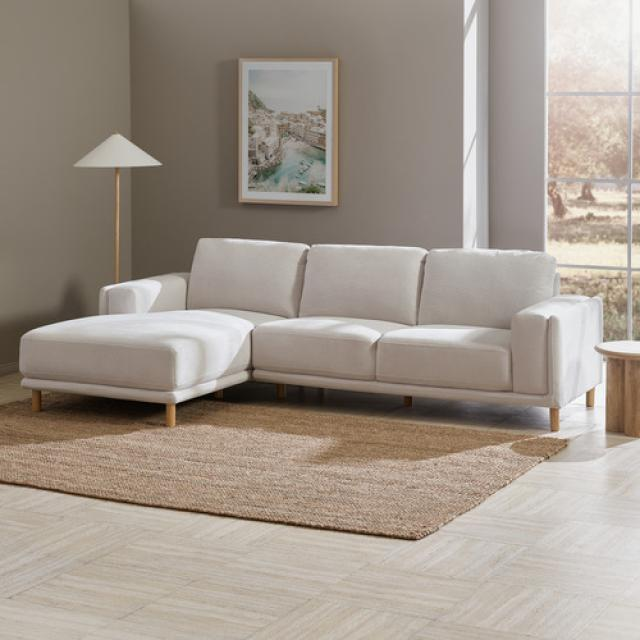floor: (0, 368, 639, 639)
